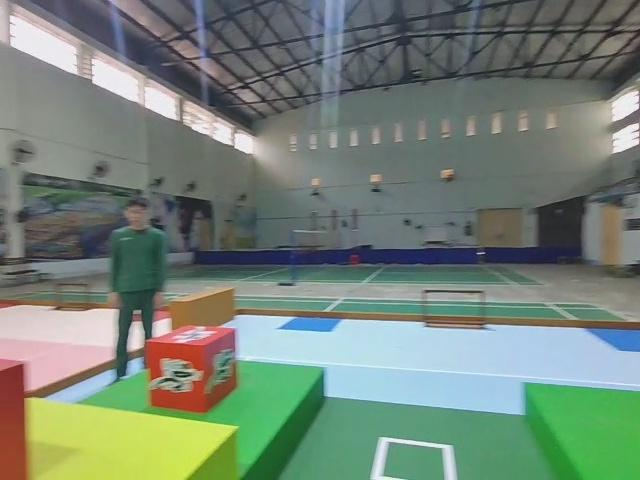R1: (148, 324, 237, 413)
